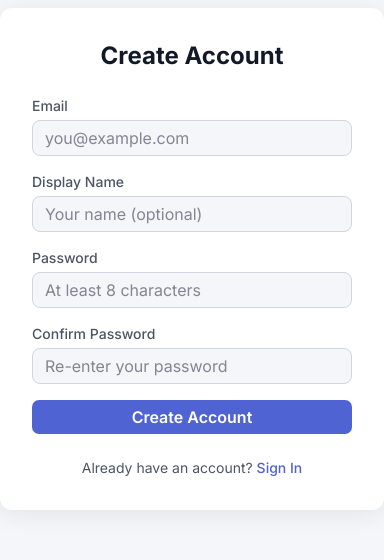
SignUpPage › displays server error on registration failure
Type "existing@example.com" into the field labelled "Email" at (192, 138), box 32,120 -> 352,156
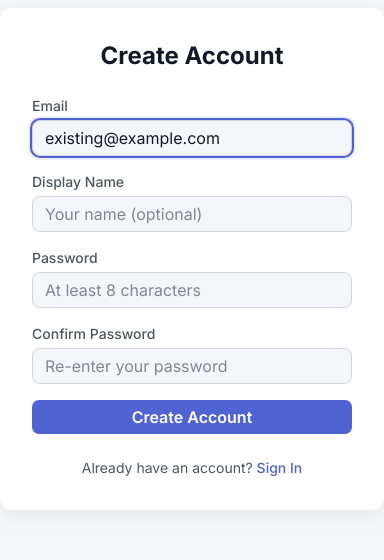
Type "password123" into the password field labelled "Password" at (192, 290), box 32,272 -> 352,308
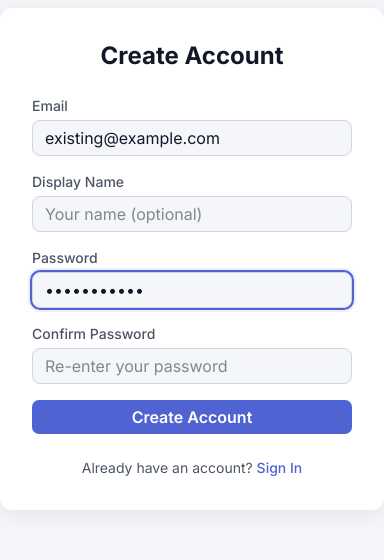
Type "password123" into the password field labelled "Confirm Password" at (192, 366), box 32,348 -> 352,384
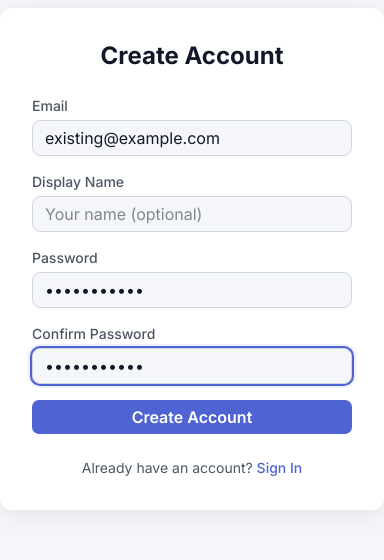
Click the button "Create Account" at (192, 417), box 32,400 -> 352,434
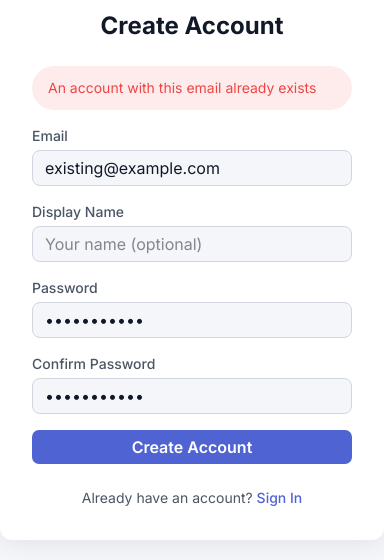
Now the message shows "already exists", box 48,79 -> 316,96
